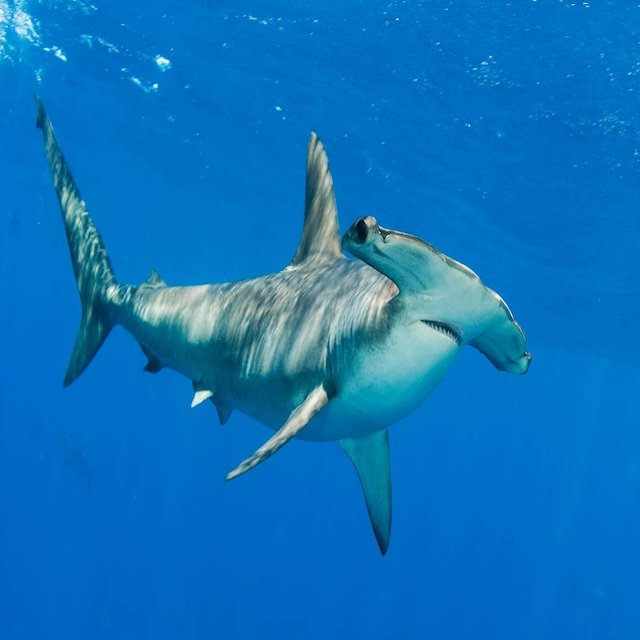hammerhead: (69, 94, 545, 538)
